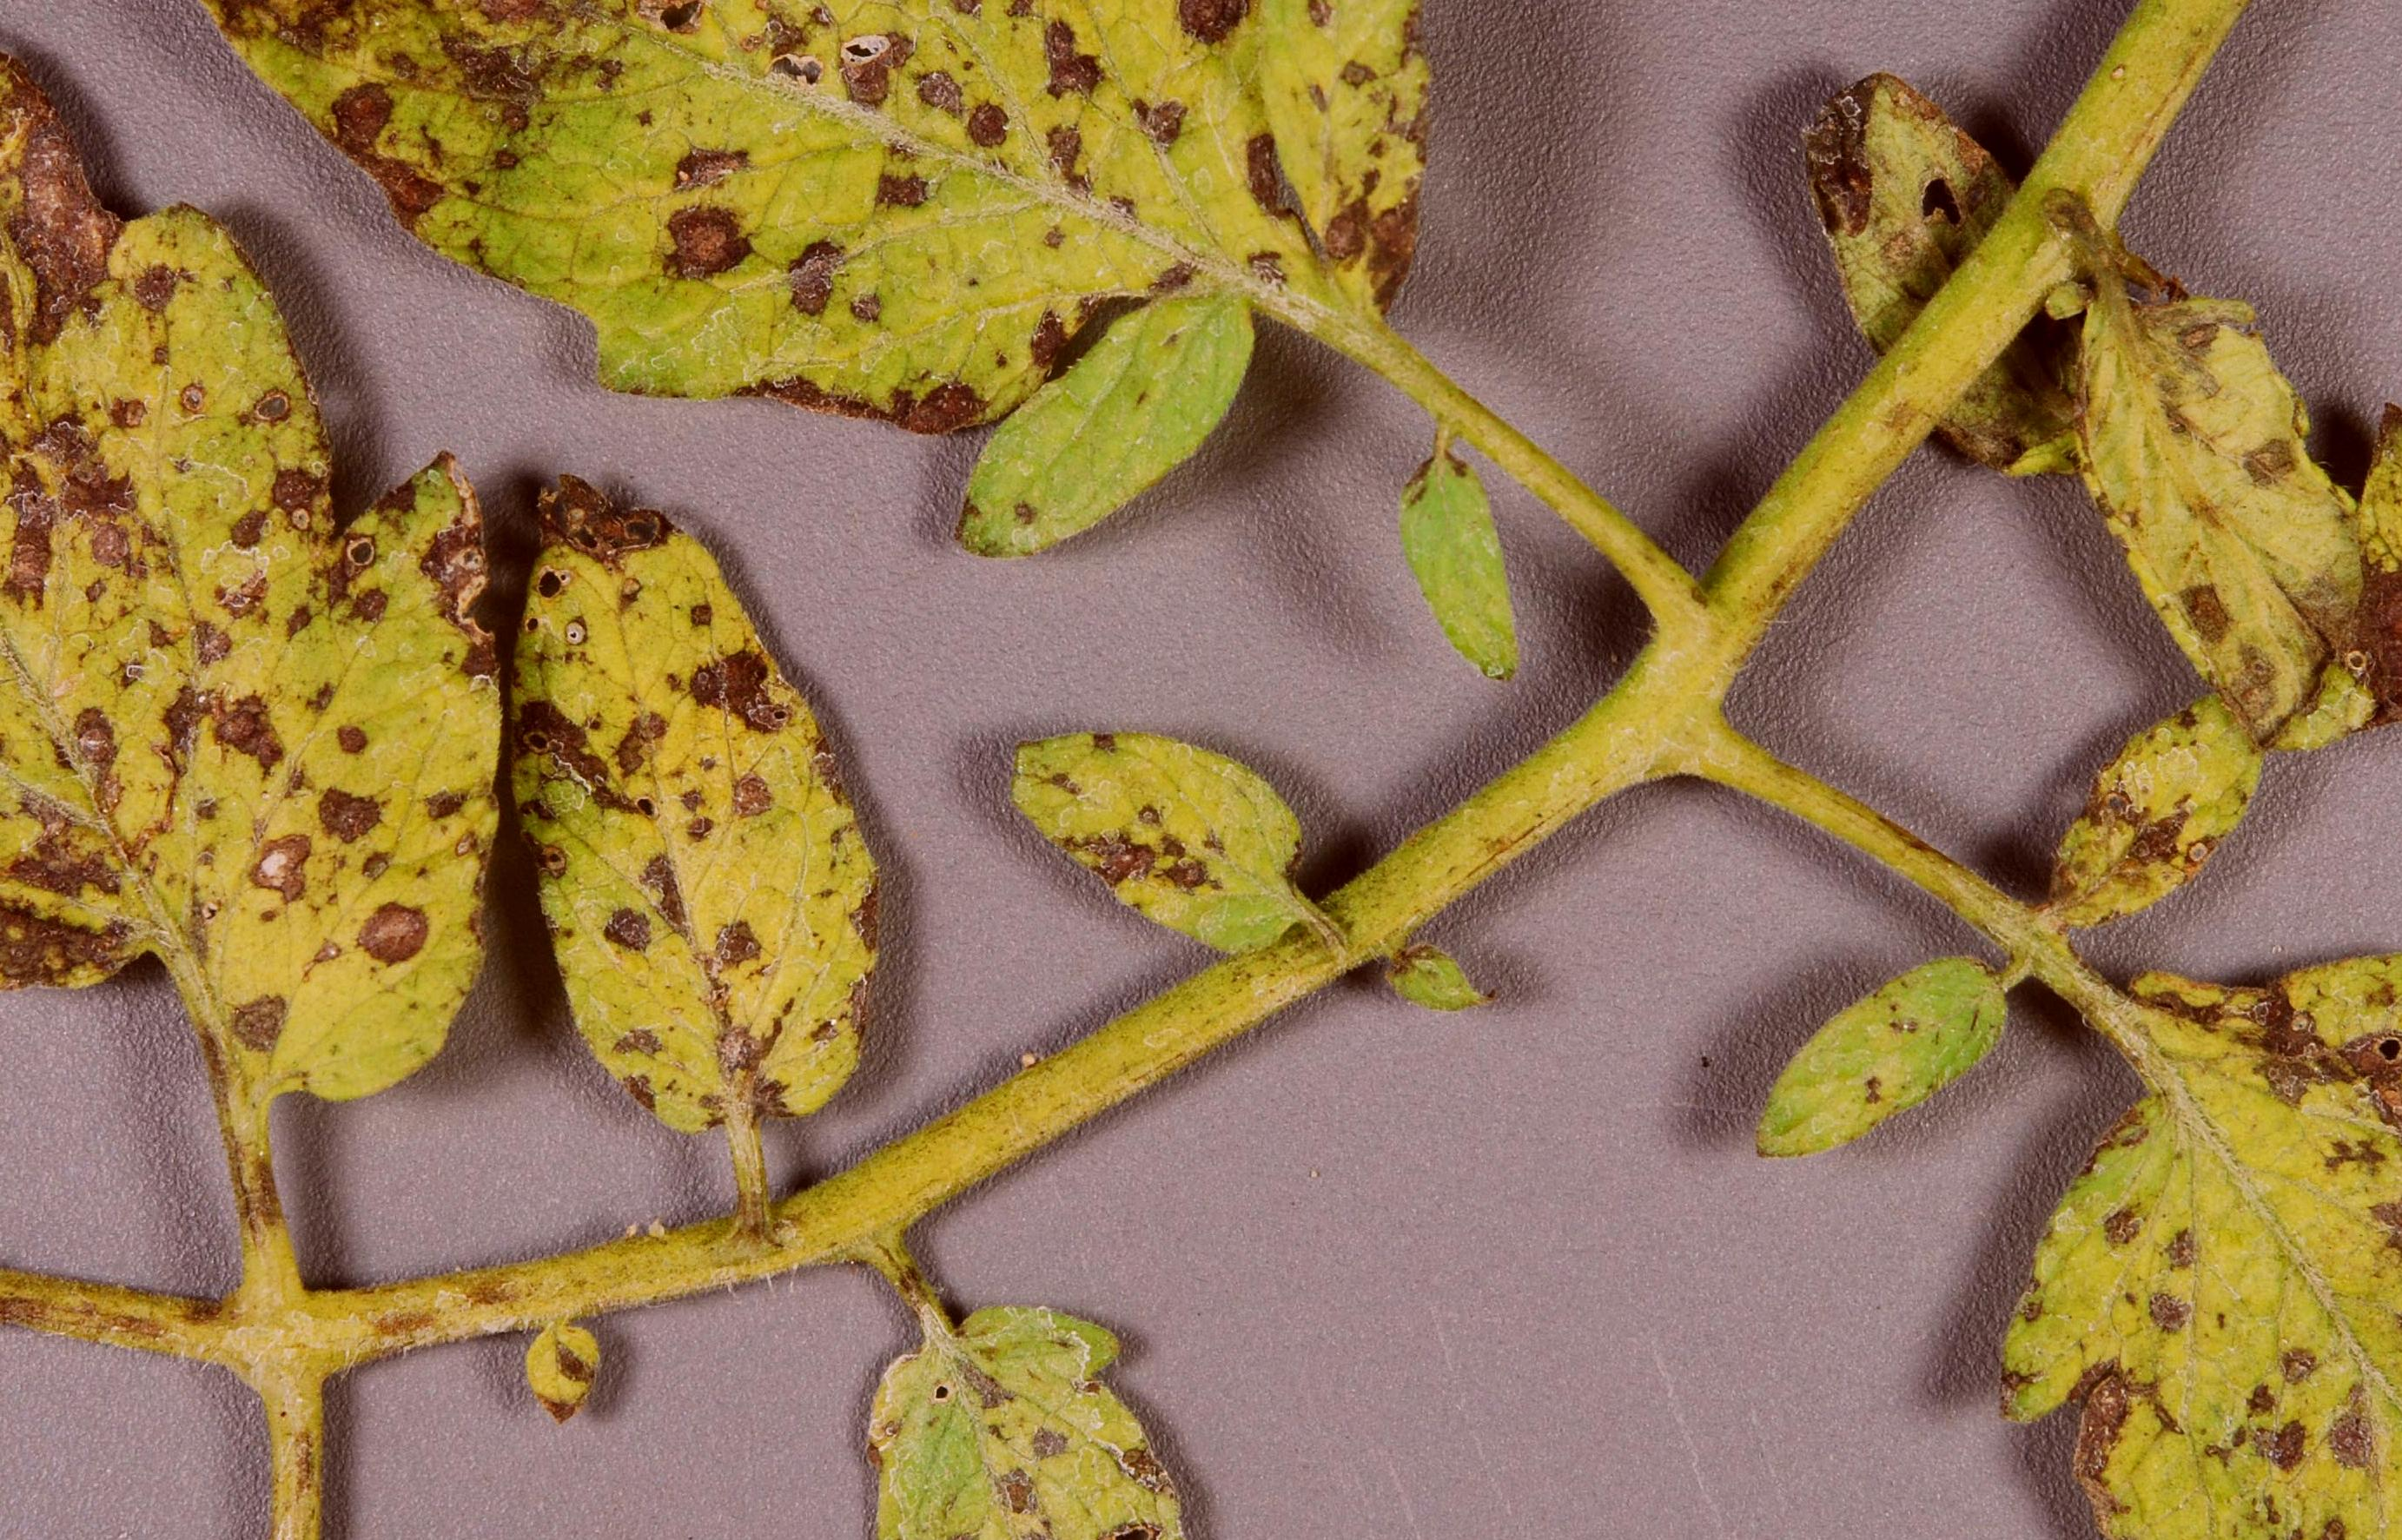Tomato Septoria leaf spot: (0, 0, 1457, 486), (0, 0, 509, 1197), (1894, 856, 2402, 1540), (453, 429, 877, 1132), (2069, 203, 2402, 801), (779, 1286, 1317, 1540), (961, 642, 1336, 966)
